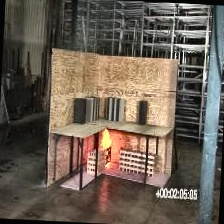fire: (91, 123, 126, 157)
